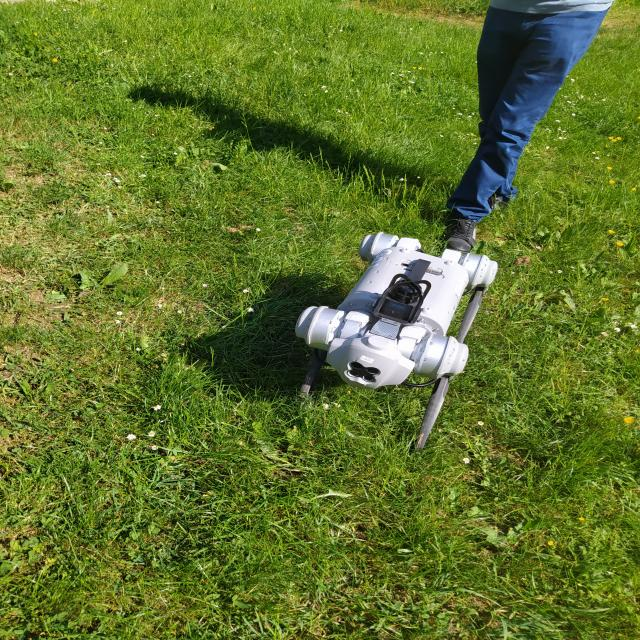unitree-go1-robot: (283, 214, 526, 464)
